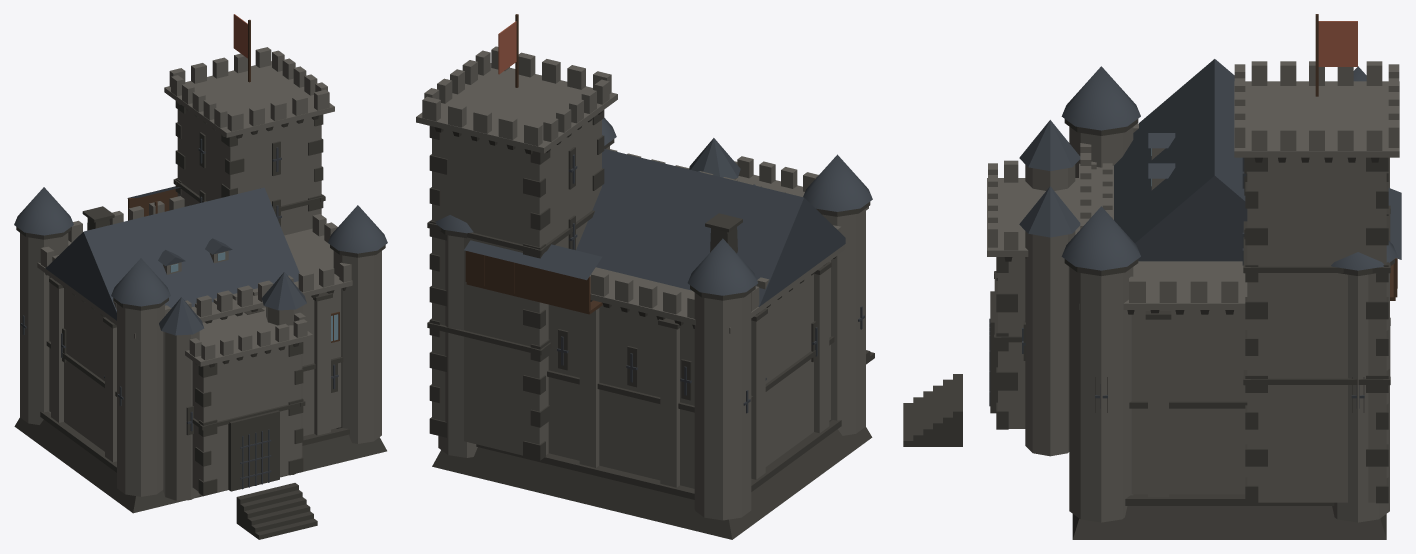
Rendered from keep_tier1.glb.
The picture shows the model from 3 angles, left to right: view 1: azimuth 30°, elevation 25°; view 2: azimuth 150°, elevation 25°; view 3: azimuth 270°, elevation 25°; orthographic projection. The views are drawn at different scales.
Parts seen in each view (by area): view 1: keep_tier1_lod0; view 2: keep_tier1_lod0; view 3: keep_tier1_lod0.
Part boxes in pixels (x1,y1,x2,y2): keep_tier1_lod0: (14,14,387,539); keep_tier1_lod0: (416,14,874,539); keep_tier1_lod0: (903,14,1401,539).
Size of what is drawn, in the model's own units: 16.49 by 21.95 by 20.
